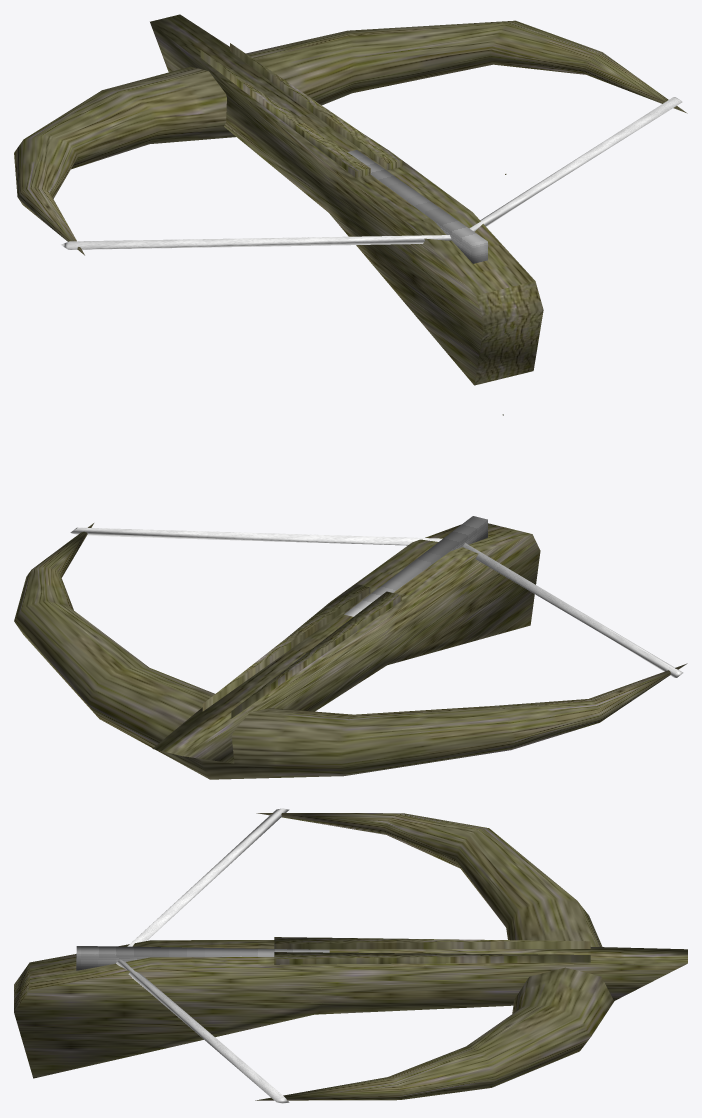
Rendered from arbalest.obj.
The picture shows the model from 3 angles, top to bottom: view 1: azimuth 30°, elevation 25°; view 2: azimuth 150°, elevation 25°; view 3: azimuth 270°, elevation 25°; orthographic projection. The views are drawn at different scales.
Visible parts, largest first — view 1: Cylinder02, Box01, Duplicate03, Duplicate04, Box03, Duplicate01; view 2: Cylinder02, Duplicate01, Box03, Duplicate04, Duplicate03, Box01; view 3: Cylinder02, Duplicate04, Box03, Duplicate03, Duplicate01, Box01.
Part boxes in pixels (x1,y1,x2,y2): Cylinder02: (14,14,687,385); Box01: (61,235,451,249); Duplicate03: (348,150,487,263); Duplicate04: (230,43,402,170); Box03: (200,50,370,177); Duplicate01: (469,97,682,231); Cylinder02: (14,523,687,779); Duplicate01: (70,527,442,545); Box03: (231,591,401,718); Duplicate04: (202,584,370,711); Duplicate03: (344,516,487,616); Box01: (462,543,683,677); Cylinder02: (14,813,687,1100); Duplicate04: (274,952,590,964); Box03: (274,937,590,949); Duplicate03: (76,946,329,970); Duplicate01: (116,959,289,1103); Box01: (127,808,289,946).
Size of the model in its own units: 17.04 by 5.44 by 16.73.
